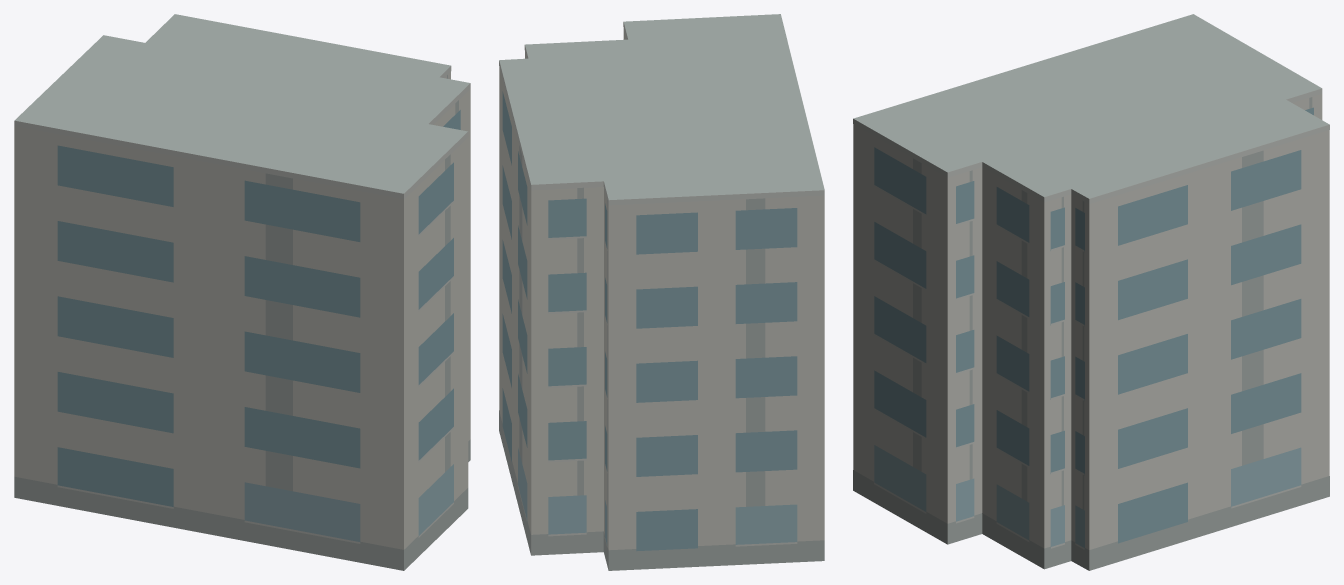
The model's file is survey-upis-32679536.glb.
3 views of the same model, side by side, from view 1: azimuth 30°, elevation 25°; view 2: azimuth 150°, elevation 25°; view 3: azimuth 270°, elevation 25° (orthographic).
Parts seen in each view (by area): view 1: survey-upis-32679536.tmp; view 2: survey-upis-32679536.tmp; view 3: survey-upis-32679536.tmp.
Part boxes in pixels (bbox=[...]): survey-upis-32679536.tmp: bbox=[14, 14, 470, 570]; survey-upis-32679536.tmp: bbox=[499, 14, 824, 570]; survey-upis-32679536.tmp: bbox=[853, 14, 1329, 570].
Size of the model in its own units: 17.7 by 16.6 by 19.28.
